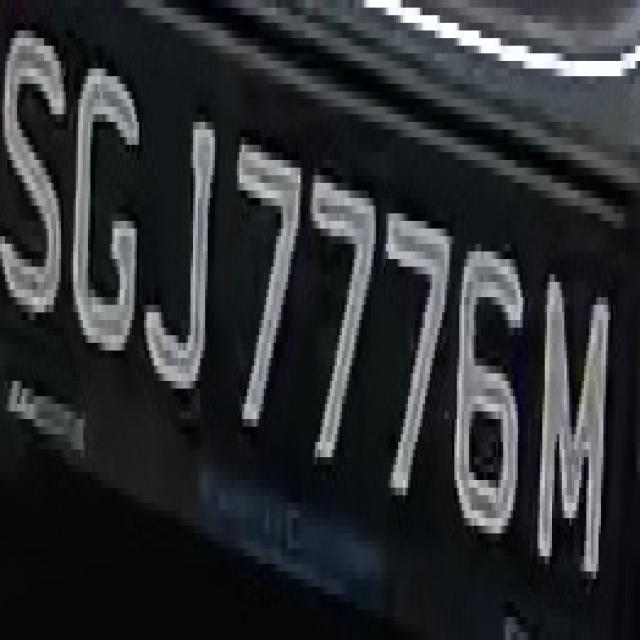6: (449, 198, 523, 556)
7: (220, 92, 305, 450), (381, 168, 454, 526), (305, 145, 381, 488)
G: (64, 46, 146, 381)
J: (142, 76, 220, 419)
M: (530, 236, 618, 602)
S: (8, 0, 64, 335)
